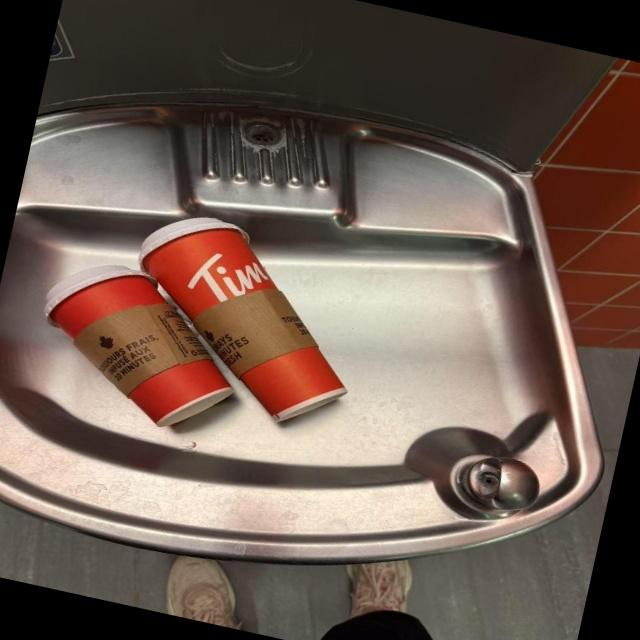Timmies: (108, 202, 380, 439), (20, 248, 258, 444)
